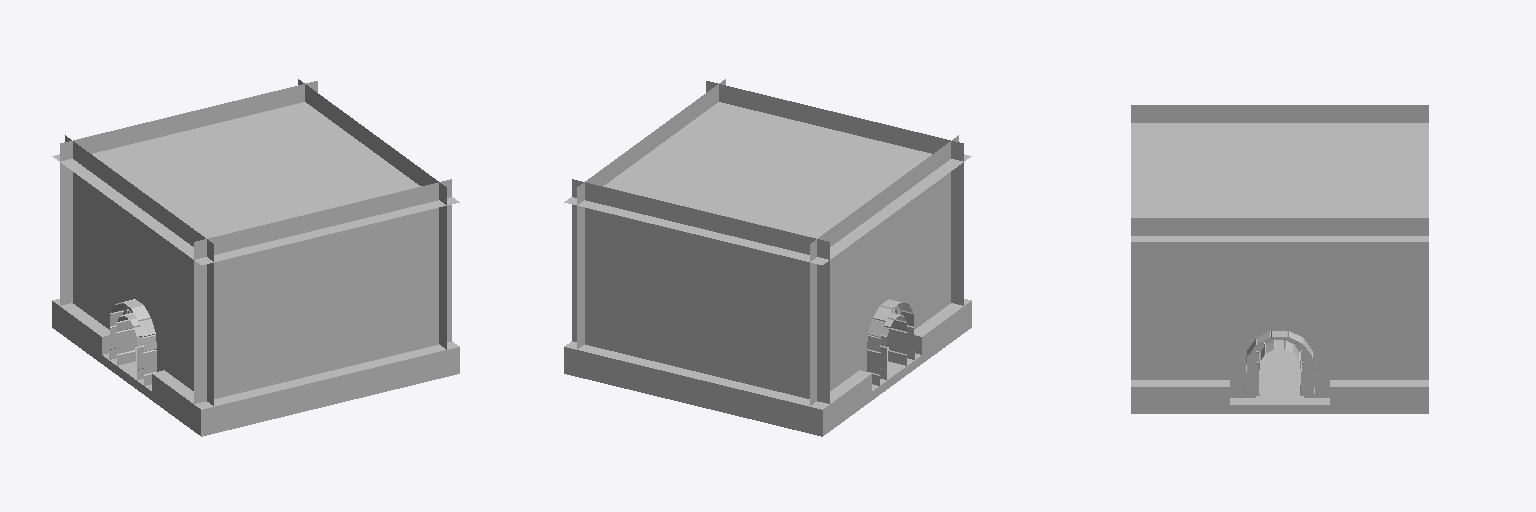
Rendered from straight.obj.
The picture shows the model from 3 angles: view 1: azimuth 30°, elevation 25°; view 2: azimuth 150°, elevation 25°; view 3: azimuth 270°, elevation 25°; orthographic projection.
Parts seen in each view (by area): view 1: struct_wall_main_half_8, struct_ceiling_1, open_block_18, struct_wall_main_half_5, struct_wall_main_half_9, struct_wall_main_half_4, struct_door_3, block_default_0, struct_wall_main_half_12, struct_wall_main_half_7, open_block_19, struct_wall_main_half_11 (+1 smaller); view 2: struct_wall_main_half_9, struct_ceiling_1, open_block_19, struct_wall_main_half_4, struct_wall_main_half_8, struct_wall_main_half_5, struct_door_3, block_default_0, struct_wall_main_half_12, struct_wall_main_half_6, open_block_18, struct_wall_main_half_11 (+1 smaller); view 3: struct_ceiling_1, struct_wall_main_half_6, struct_wall_main_half_7, struct_wall_main_half_11, struct_door_4, block_default_0, open_block_18, open_block_19, struct_wall_main_half_12, struct_wall_main_half_4, struct_wall_main_half_5.
Part boxes in pixels (x1,y1,x2,y2): struct_wall_main_half_8: (194,179,451,403); struct_ceiling_1: (52,102,459,264); open_block_18: (152,341,459,427); struct_wall_main_half_5: (65,135,114,329); struct_wall_main_half_9: (60,81,317,305); struct_wall_main_half_4: (165,209,213,405); struct_door_3: (109,262,164,385); block_default_0: (52,319,459,436); struct_wall_main_half_12: (115,172,164,297); struct_wall_main_half_7: (397,151,446,349); open_block_19: (52,299,136,354); struct_wall_main_half_11: (347,115,396,168); struct_wall_main_half_9: (572,179,829,403); struct_ceiling_1: (564,102,971,264); open_block_19: (564,341,871,427); struct_wall_main_half_4: (909,135,958,329); struct_wall_main_half_8: (706,81,963,305); struct_wall_main_half_5: (810,209,858,405); struct_door_3: (859,262,914,385); block_default_0: (564,319,971,436); struct_wall_main_half_12: (859,172,908,297); struct_wall_main_half_6: (577,151,626,349); open_block_18: (887,299,971,354); struct_wall_main_half_11: (627,115,676,168); struct_ceiling_1: (1131,123,1428,241); struct_wall_main_half_6: (1330,218,1428,379); struct_wall_main_half_7: (1131,218,1229,379); struct_wall_main_half_11: (1230,218,1329,307); struct_door_4: (1230,308,1329,397); block_default_0: (1131,348,1428,413); open_block_18: (1131,380,1229,404); open_block_19: (1330,380,1428,404); struct_wall_main_half_12: (1230,105,1329,122); struct_wall_main_half_4: (1131,105,1229,122); struct_wall_main_half_5: (1330,105,1428,122).
Size of the model in its own units: 3 by 2.1 by 3.